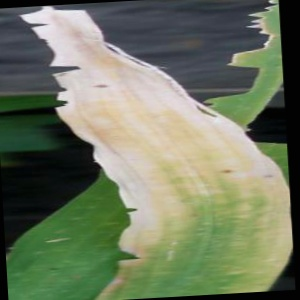Leaf_Blast: (123, 94, 289, 295)
